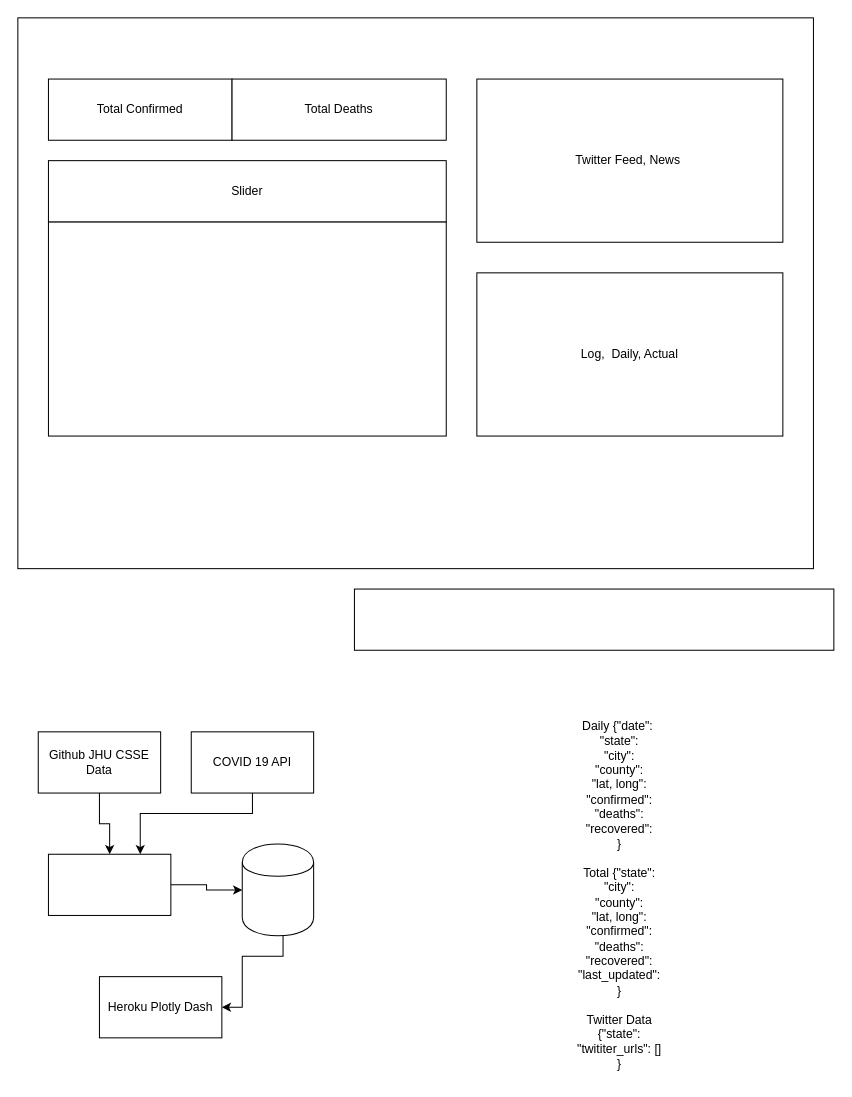
Some shapes in this 852 by 1097 pixel diagram are drawn without their labels. Each missing label, with the box of its shape:
Lambda Function: (47, 853, 171, 915)
Mongo DB: (241, 843, 314, 936)
MONGO DB COLLECTIONS (AKA TABLES): (353, 588, 834, 650)
US MAP, Tooltip link to public gov county sites: (47, 221, 446, 436)
